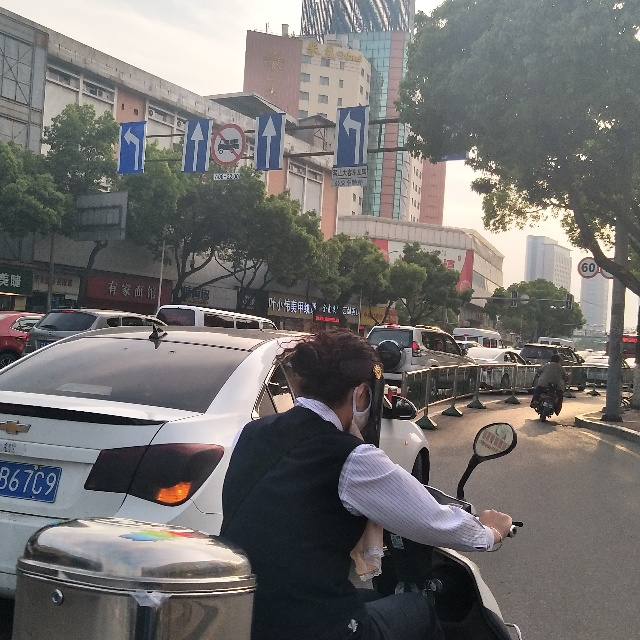left: (334, 105, 368, 168), (118, 121, 144, 175)
straight: (254, 113, 285, 170), (181, 120, 212, 172)
